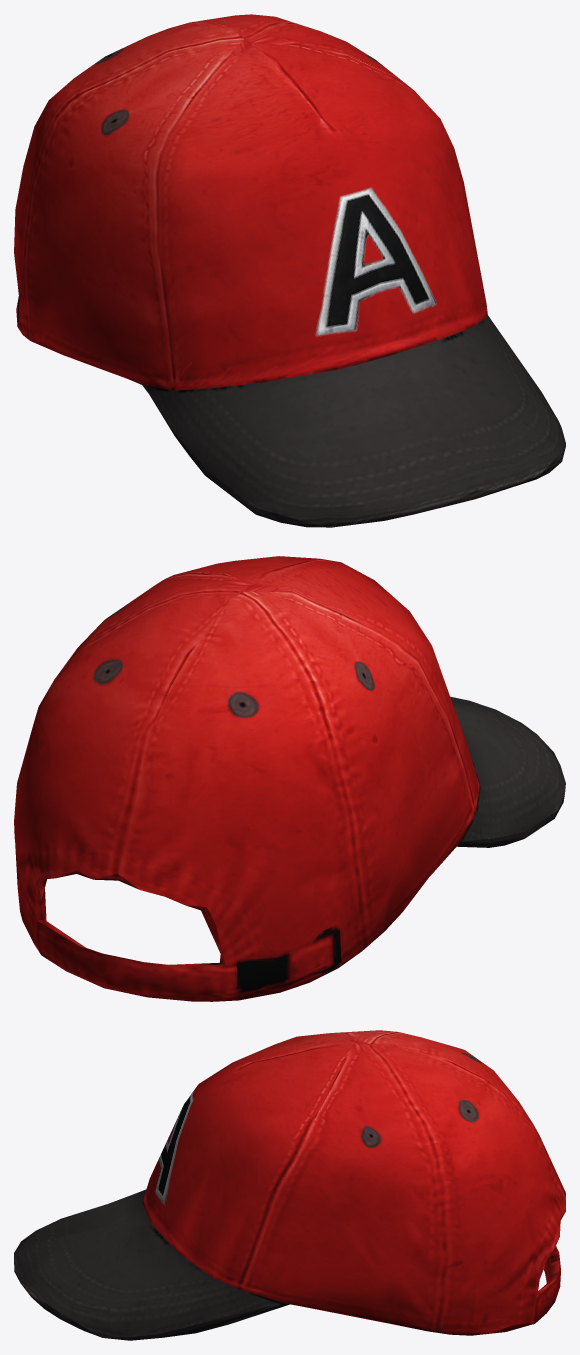
The model's file is Hat.FBX.
3 views of the same model, one above another, from view 1: azimuth 30°, elevation 25°; view 2: azimuth 150°, elevation 25°; view 3: azimuth 270°, elevation 25° (orthographic). The views are drawn at different scales.
Visible parts, largest first — view 1: hat; view 2: hat; view 3: hat.
Boxes of the visible parts, bbox=[...] form: hat: bbox=[14, 14, 565, 527]; hat: bbox=[14, 556, 565, 1001]; hat: bbox=[14, 1030, 565, 1340].
Bounding box in the file's own units: 20.43 × 17.92 × 35.96.
1 material, 1 textured.
